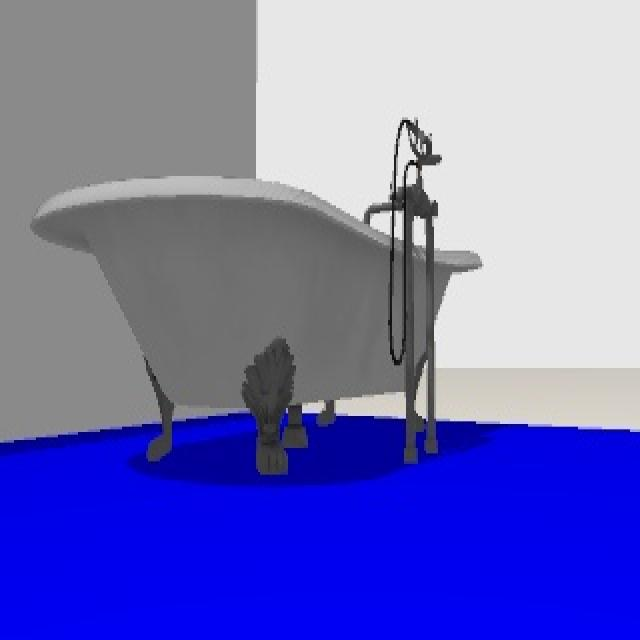bathtub: (36, 123, 482, 480)
